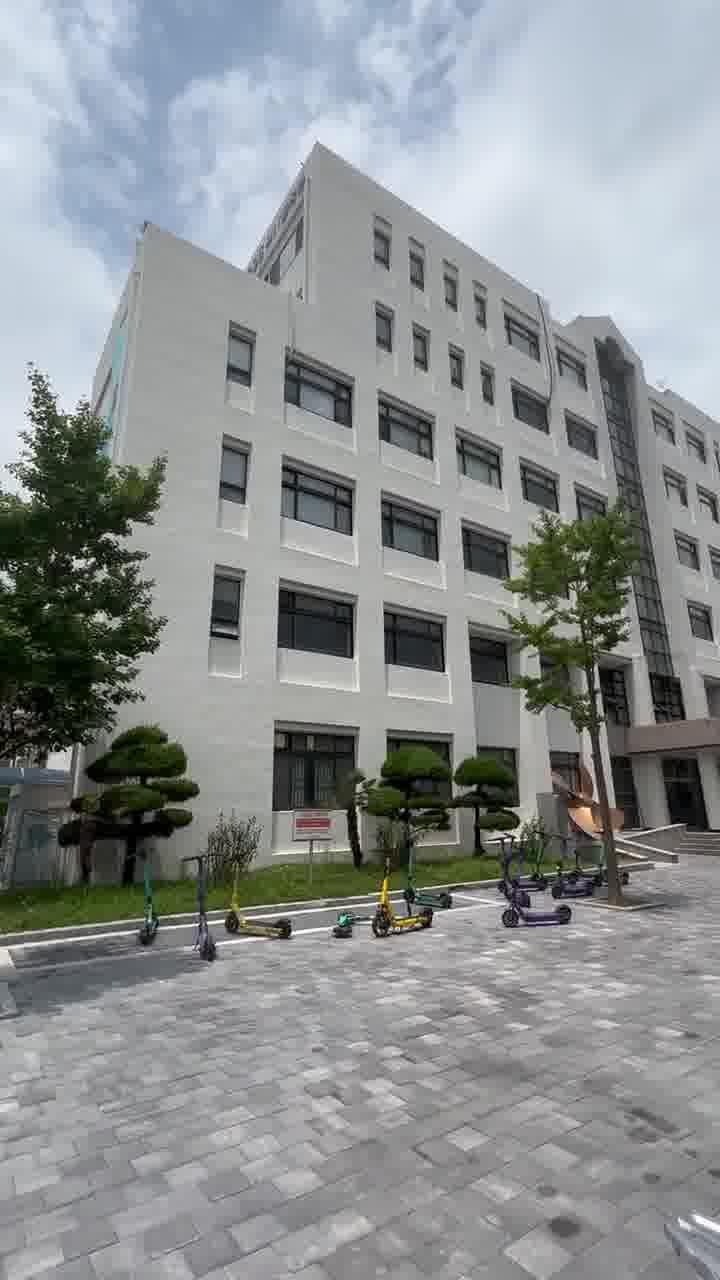building: (102, 162, 564, 756)
